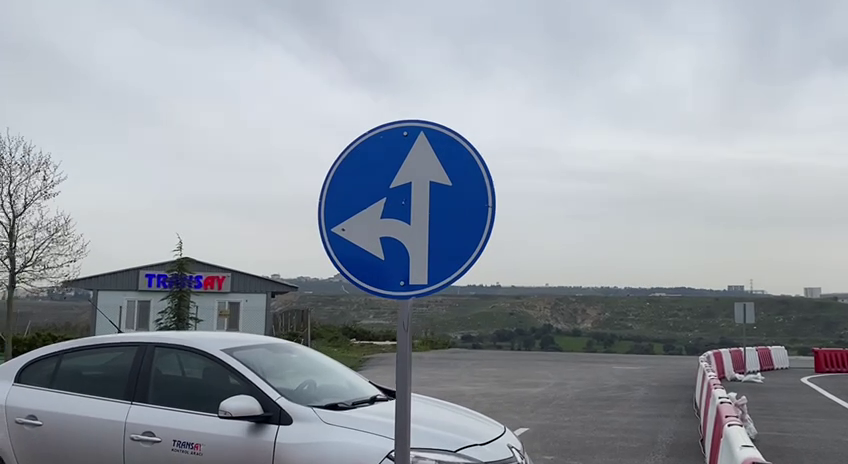forwardAndLeft: (315, 115, 498, 302)
